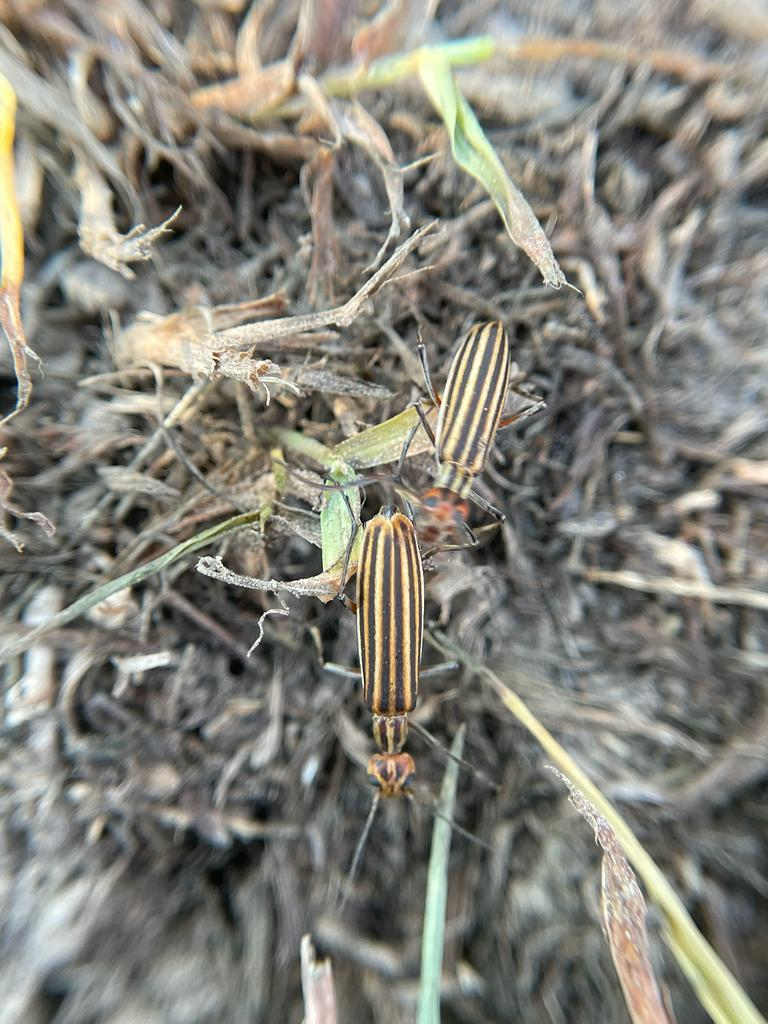blister_beetle: (381, 295, 583, 576), (330, 488, 457, 835)
